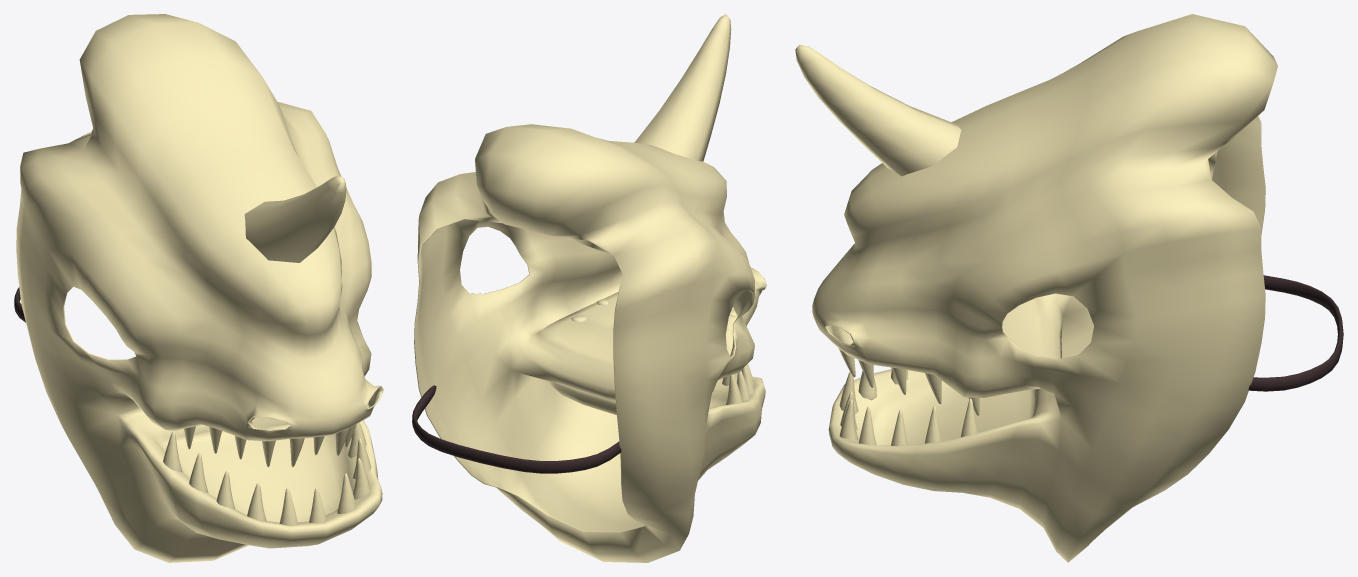
Rendered from inimigoCabecaDino.fbx.
3 views of the same model, side by side, from view 1: azimuth 30°, elevation 25°; view 2: azimuth 150°, elevation 25°; view 3: azimuth 270°, elevation 25° (orthographic). The views are drawn at different scales.
Parts seen in each view (by area): view 1: Cube.001; view 2: Cube.001; view 3: Cube.001.
Boxes of the visible parts, x1=… form: Cube.001: x1=14, y1=14, x2=383, y2=562; Cube.001: x1=412, y1=14, x2=766, y2=562; Cube.001: x1=795, y1=14, x2=1343, y2=562.
Bounding box in the file's own units: 50.57 × 84.13 × 80.22.
